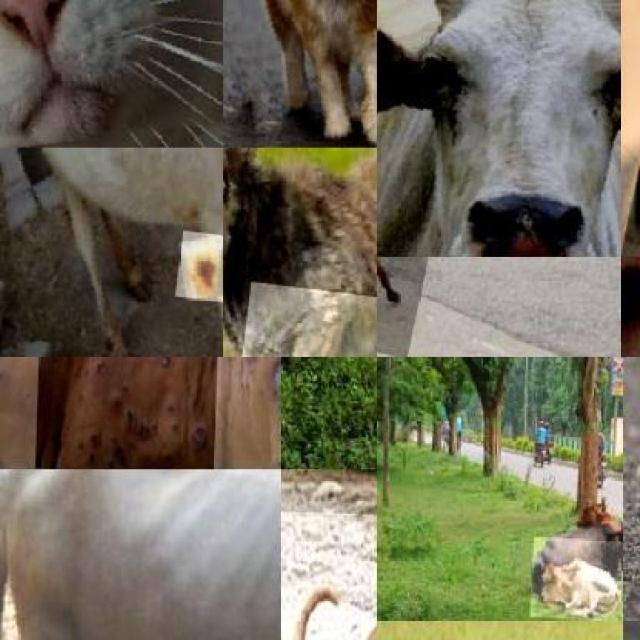buffalo: (0, 469, 280, 640)
cat: (0, 0, 223, 148), (223, 0, 377, 148)
cow: (377, 0, 620, 257), (0, 148, 223, 357), (0, 357, 280, 469), (528, 535, 623, 620)
dog: (223, 148, 377, 357), (280, 506, 377, 640), (377, 257, 449, 357)
injured: (35, 357, 220, 469), (228, 281, 377, 357), (175, 231, 223, 303)
